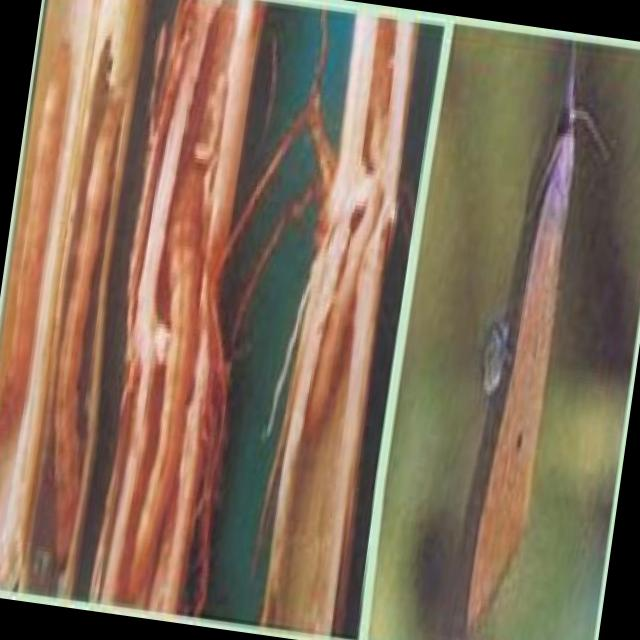stem-borer: (460, 36, 598, 640)
